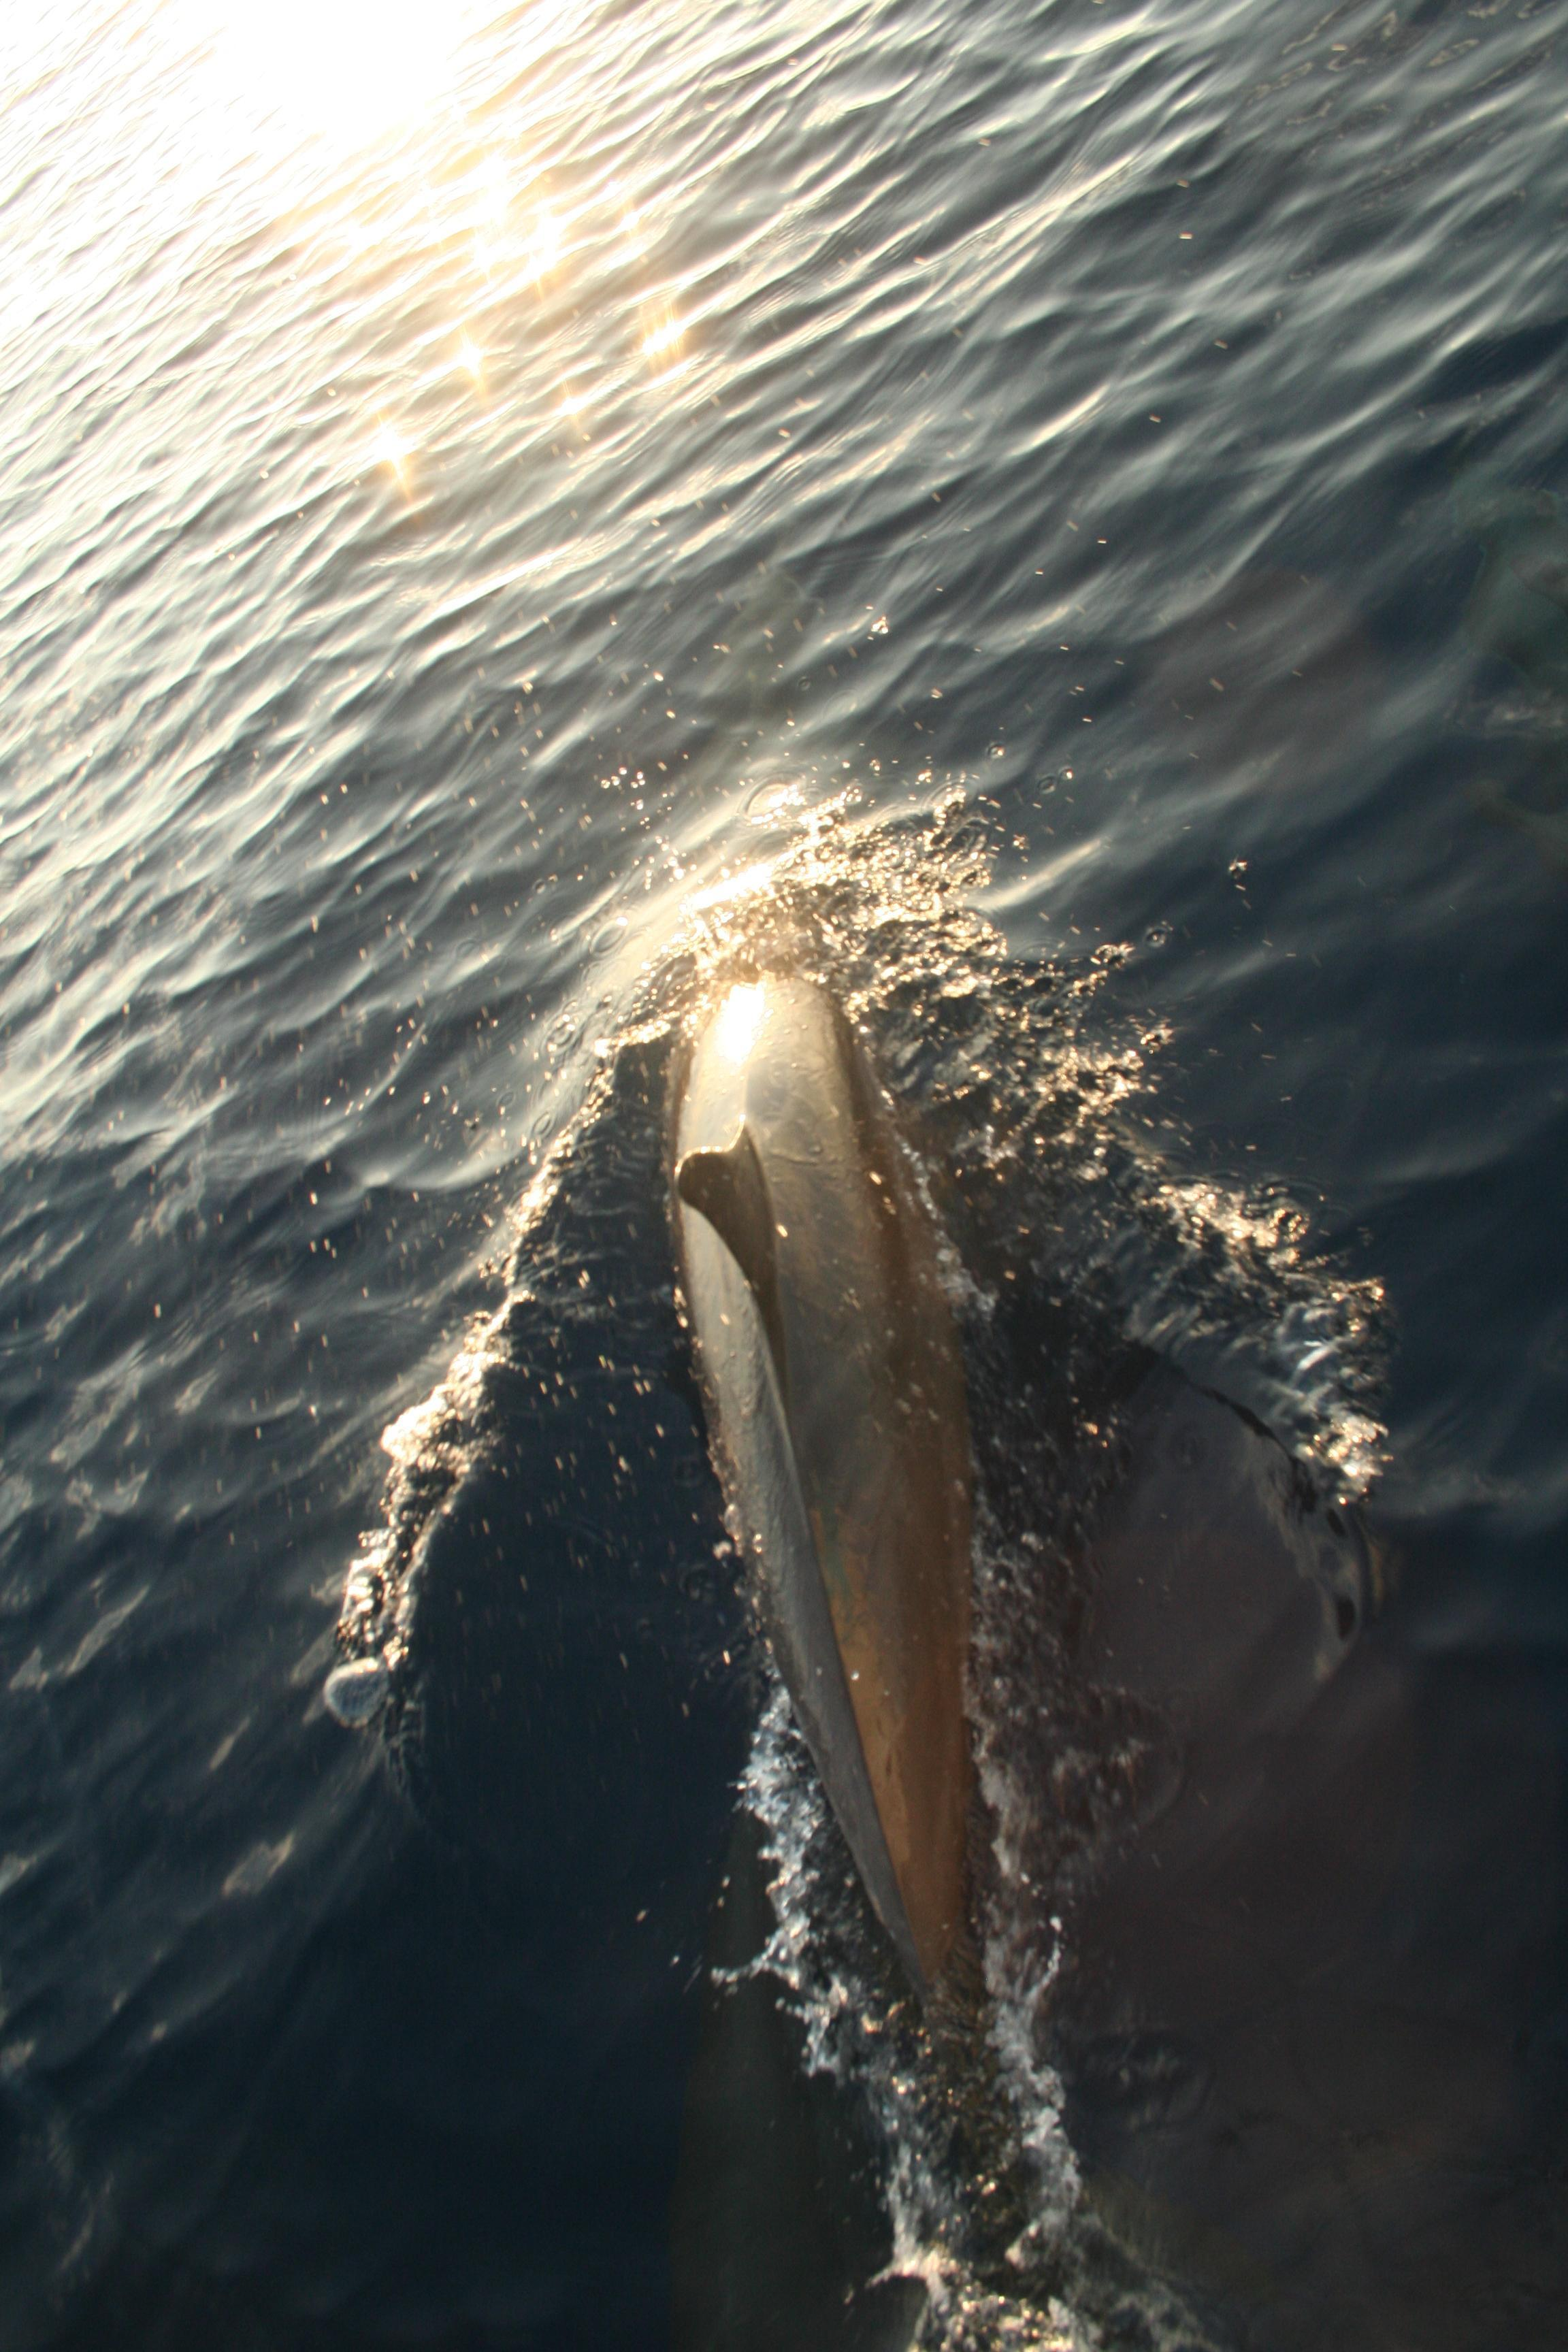fish: (584, 835, 1155, 2214)
